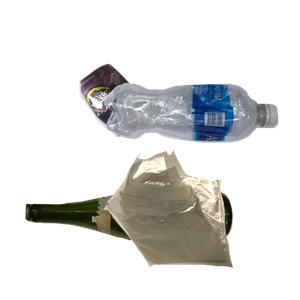glass: (23, 186, 249, 300)
metal: (77, 61, 222, 191)
plastic: (102, 81, 300, 216)
trash: (101, 148, 300, 300)
